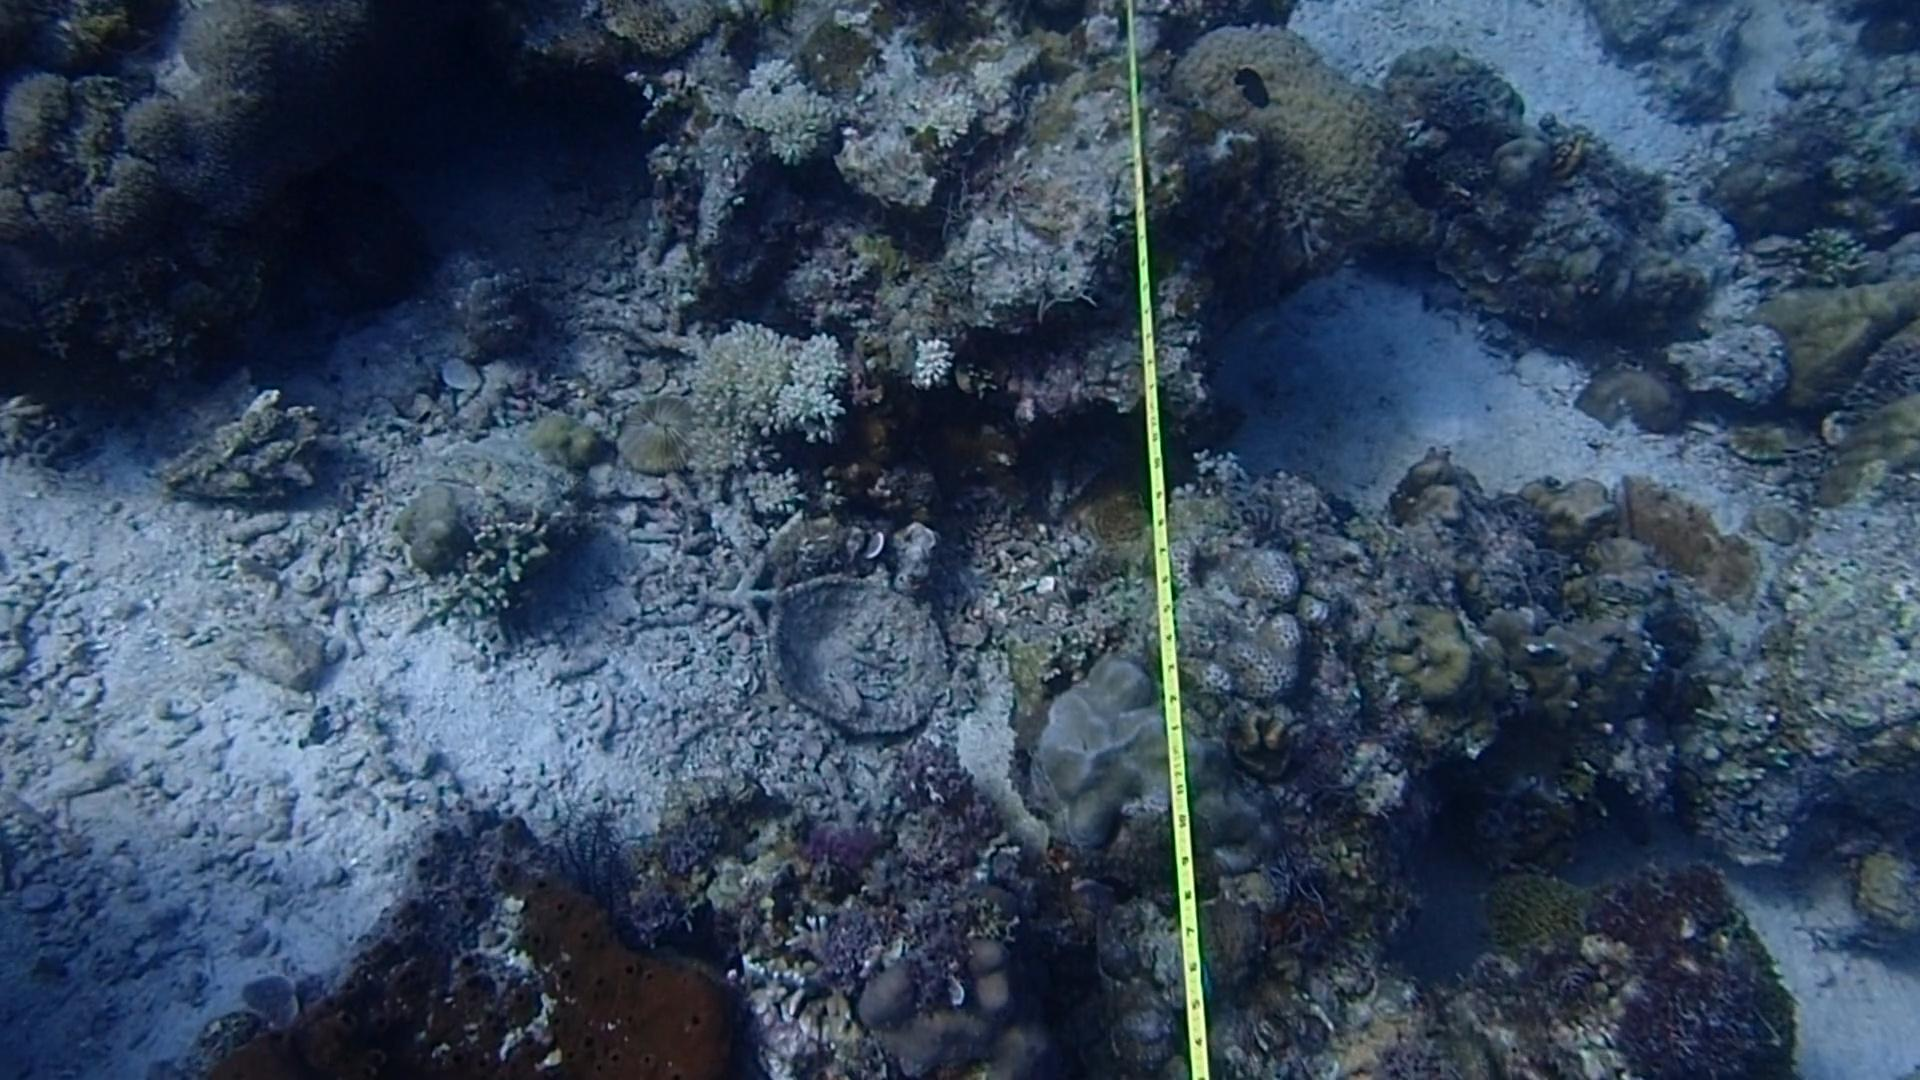Dark Fish: (1581, 757, 1656, 856), (1375, 138, 1453, 225), (1222, 53, 1280, 120)
